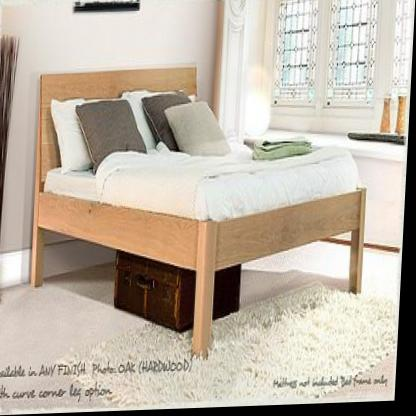Bed: (30, 60, 374, 362)
